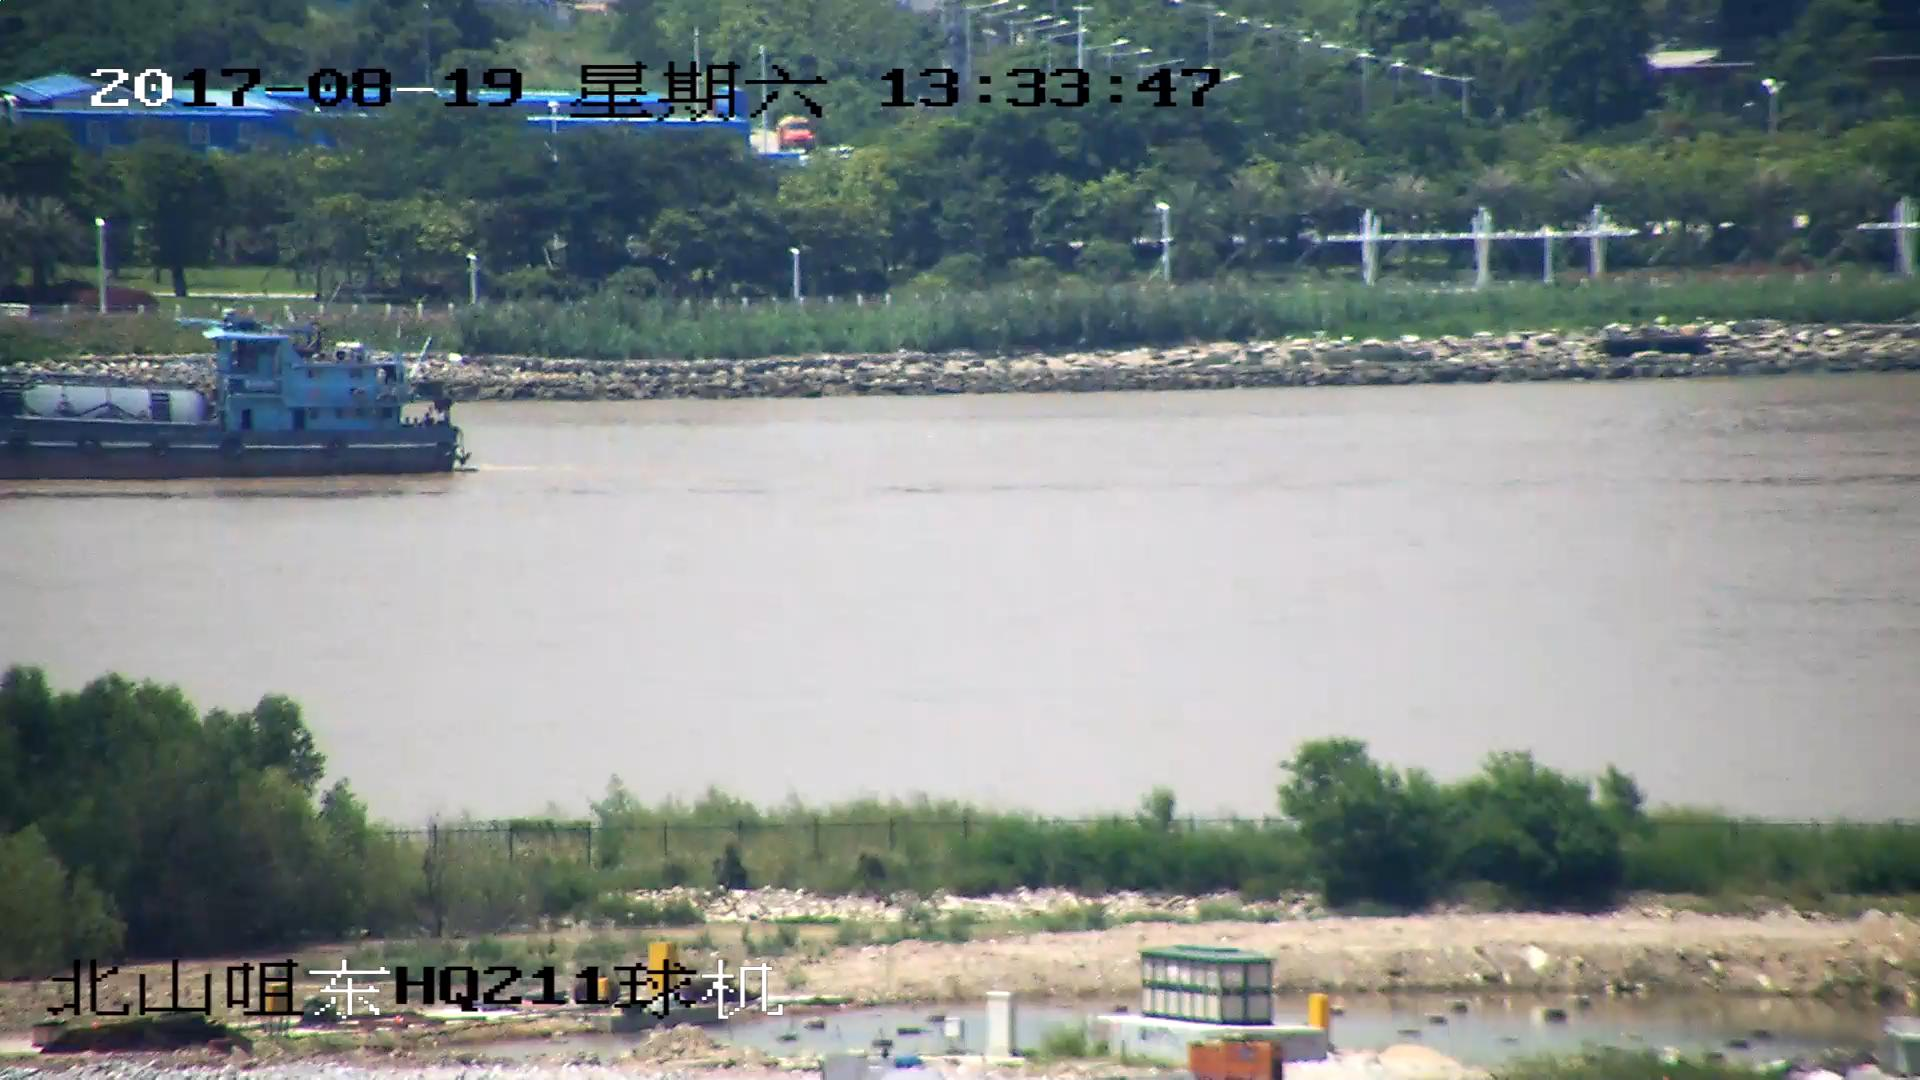bulk cargo carrier: (1, 315, 472, 477)
